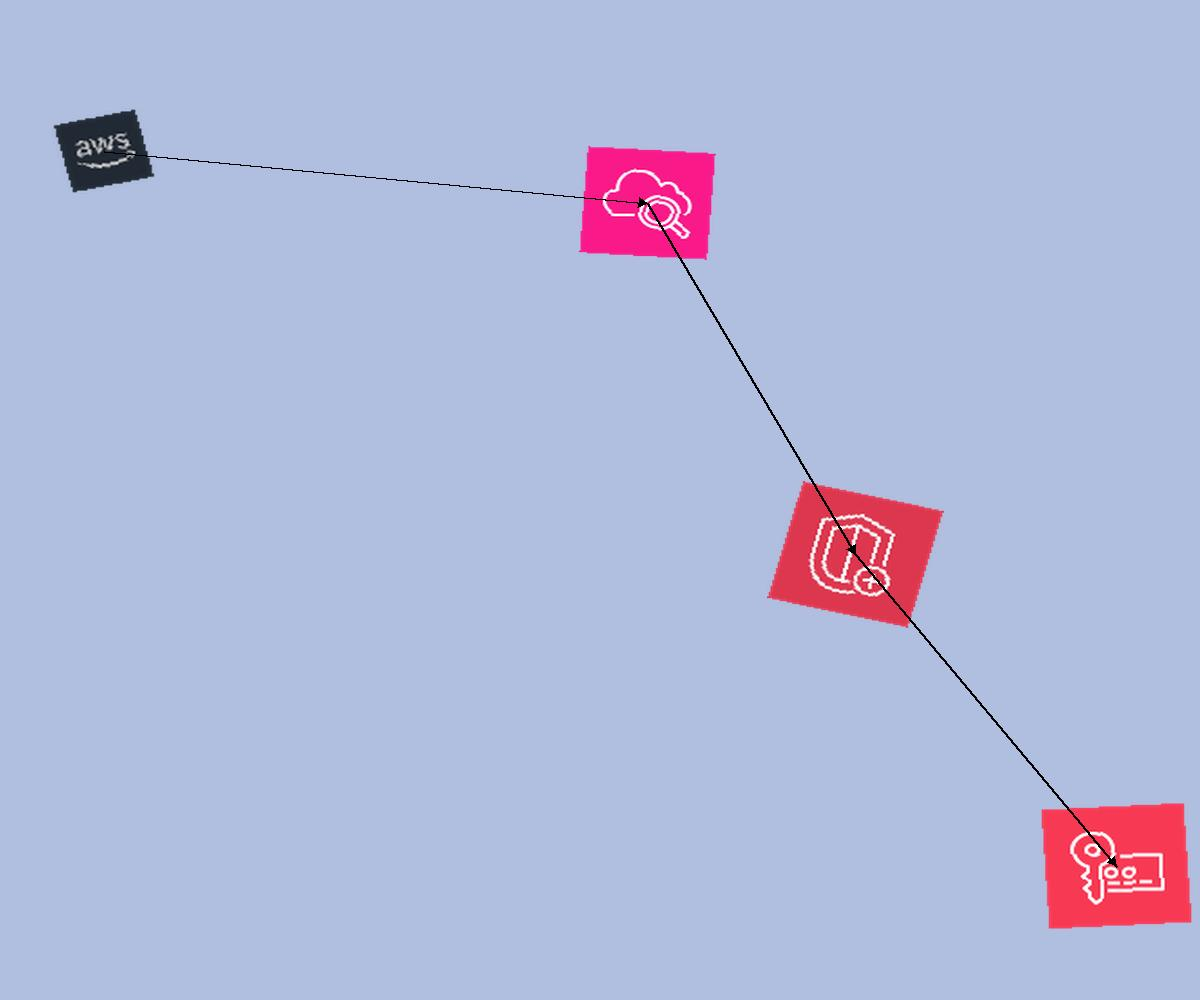AWS-Cloud-logo: (52, 108, 156, 194)
AWS-CloudWatch: (579, 146, 716, 260)
AWS-Key-Management-Service: (1040, 802, 1193, 930)
AWS-Shield: (767, 481, 944, 628)
